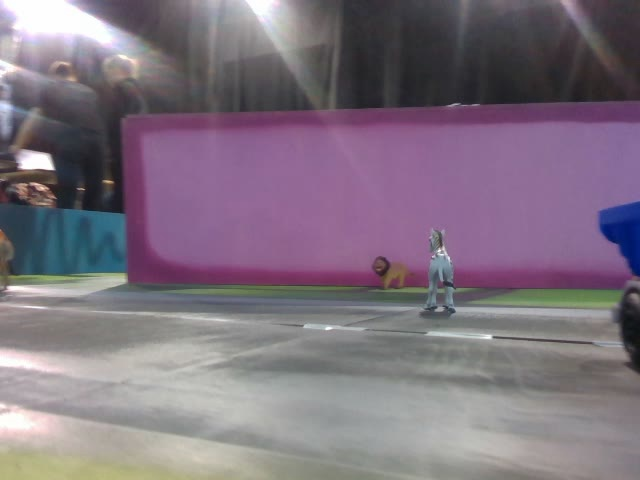toy: (420, 227, 457, 312), (371, 255, 416, 291)
